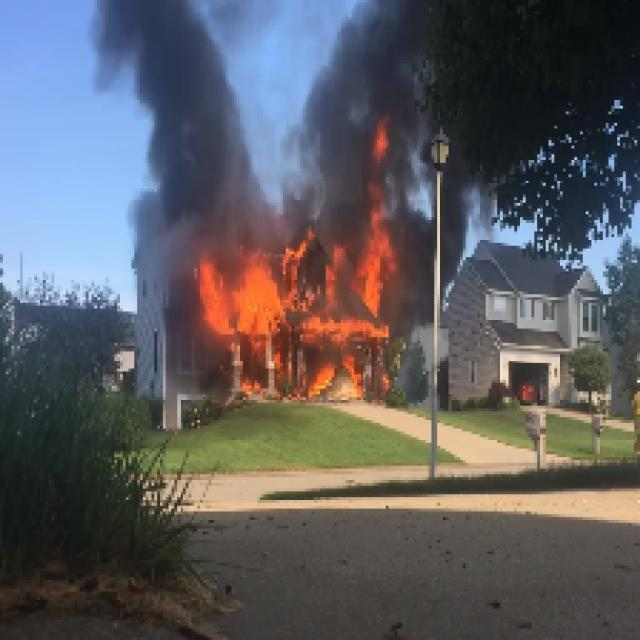Fire: (200, 248, 352, 340), (357, 122, 394, 308)
Smoke: (92, 2, 288, 238), (297, 2, 420, 108), (299, 123, 352, 223), (132, 246, 192, 286)
